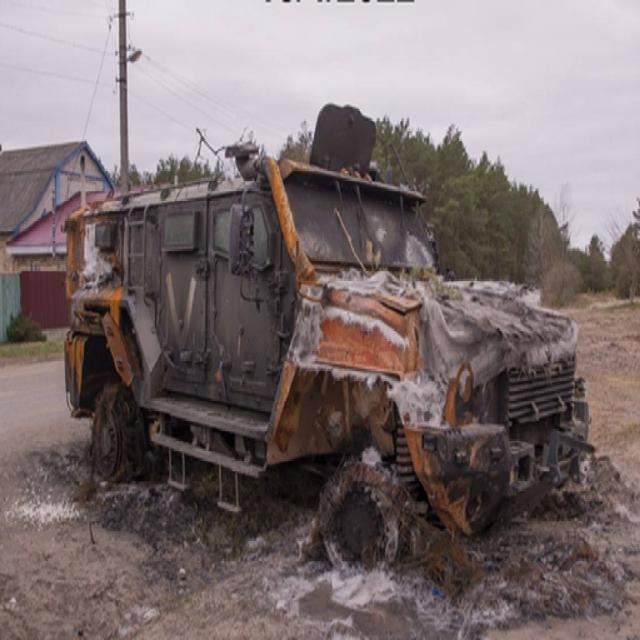CAR: (48, 91, 592, 596)
